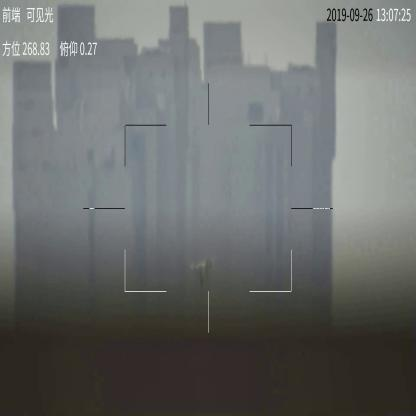uav: (187, 254, 217, 288)
